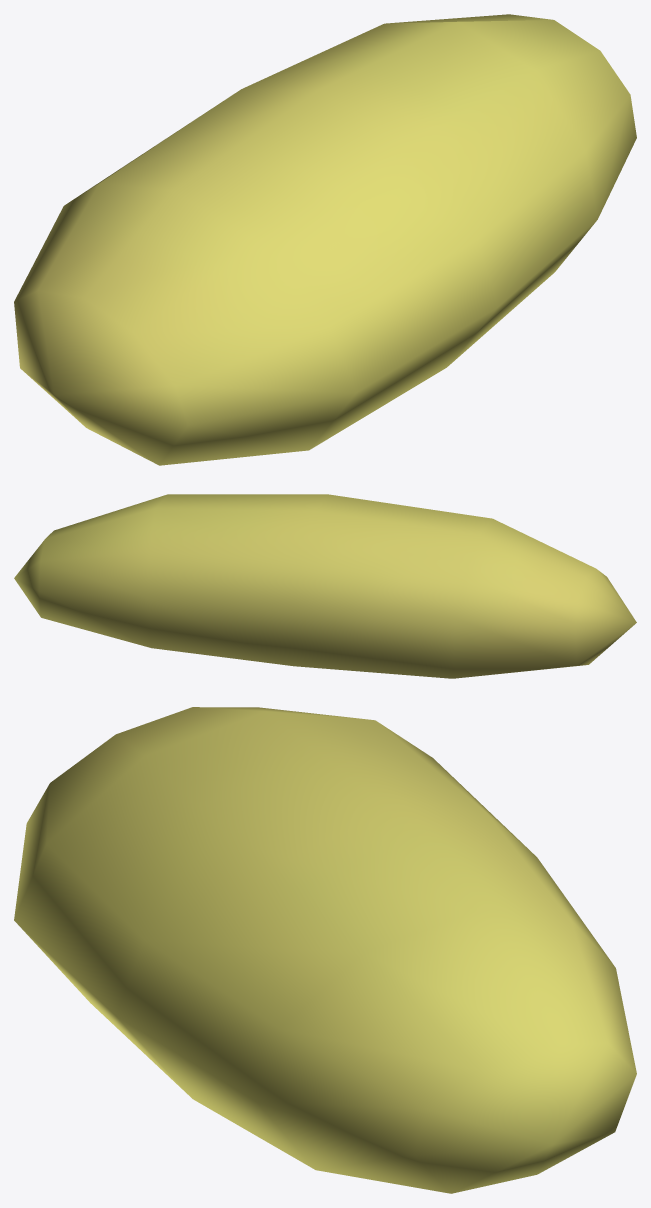
File: PC_Woman_Eyebrow002_R.glb
3 views of the same model, one above another, from view 1: azimuth 30°, elevation 25°; view 2: azimuth 150°, elevation 25°; view 3: azimuth 270°, elevation 25° (orthographic). The views are drawn at different scales.
Parts seen in each view (by area): view 1: PC_Woman_Eyebrow002_R_mesh; view 2: PC_Woman_Eyebrow002_R_mesh; view 3: PC_Woman_Eyebrow002_R_mesh.
Part boxes in pixels (x1,y1,x2,y2): PC_Woman_Eyebrow002_R_mesh: (14, 14, 636, 465); PC_Woman_Eyebrow002_R_mesh: (14, 494, 636, 678); PC_Woman_Eyebrow002_R_mesh: (14, 707, 636, 1193).
Bounding box in the file's own units: 0.1244 × 0.0398 × 0.0801.
Materials: 1 (1 with a texture image).
